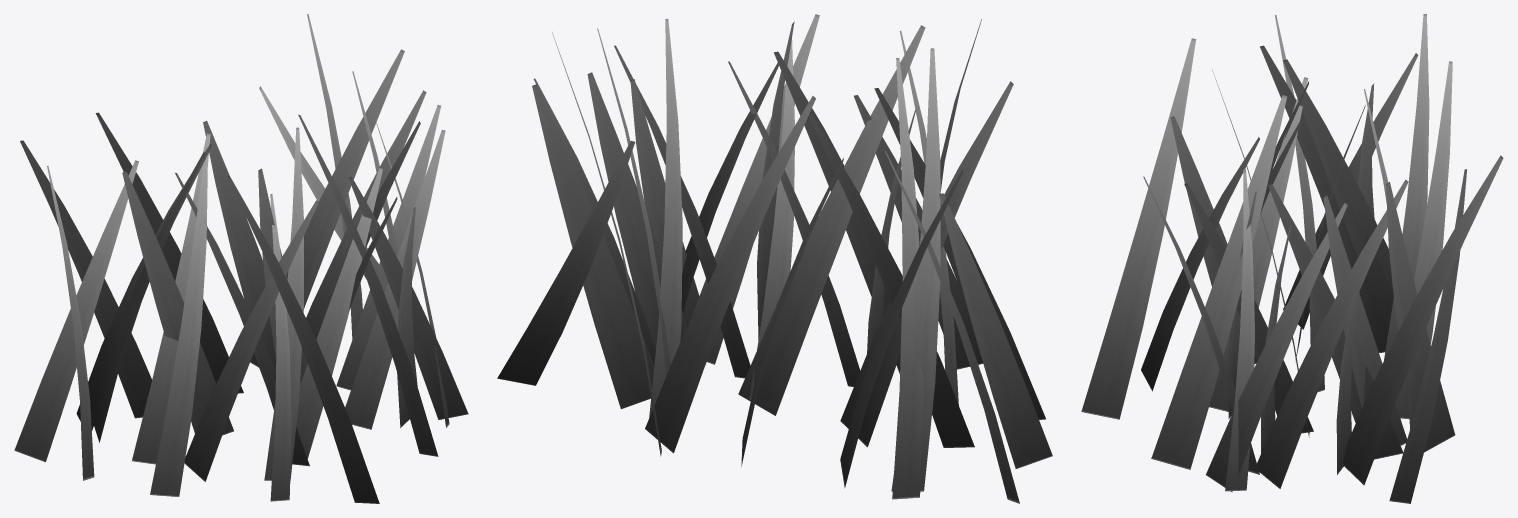
Rendered from GrassModelSmall.fbx.
3 renders of one model, left to right at view 1: azimuth 30°, elevation 25°; view 2: azimuth 150°, elevation 25°; view 3: azimuth 270°, elevation 25°, orthographic. The views are drawn at different scales.
Visible parts, largest first — view 1: Plane.297; view 2: Plane.297; view 3: Plane.297.
Part boxes in pixels (x1,y1,x2,y2): Plane.297: (14,14,468,503); Plane.297: (497,14,1052,503); Plane.297: (1081,14,1503,503).
Size of the model in its own units: 0.1707 by 0.1241 by 0.1409.
